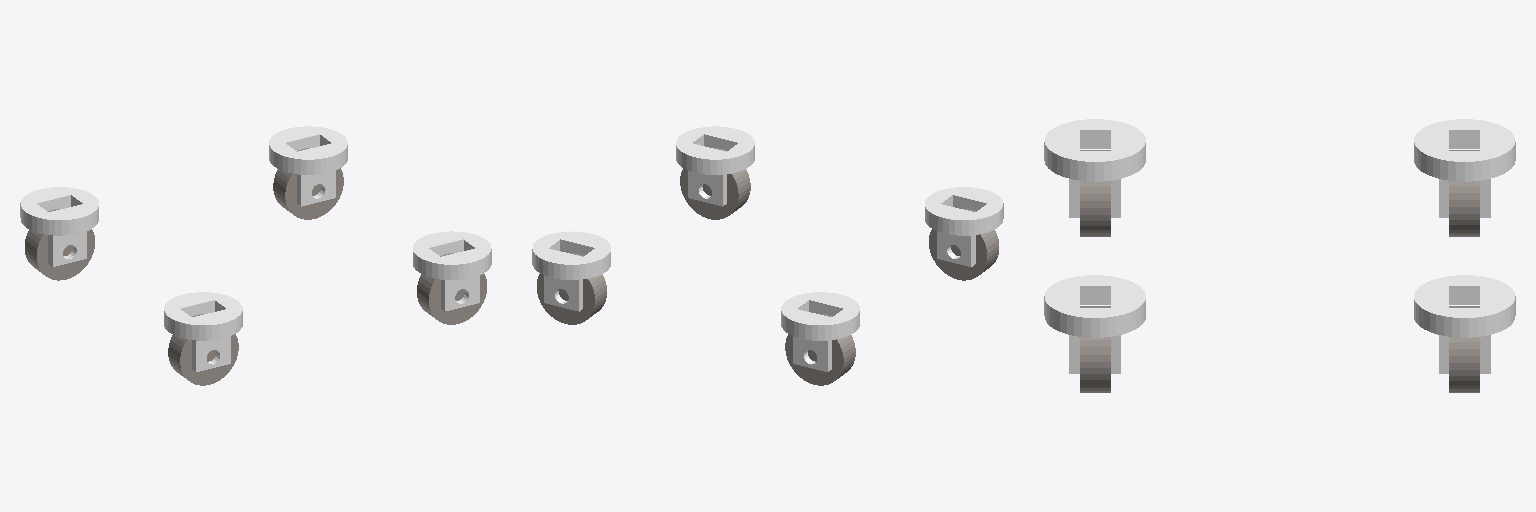
URDF robot description (urdf4):
<?xml version="1.0" encoding="utf-8"?>
<!-- This URDF was automatically created by SolidWorks to URDF Exporter! Originally created by [author] ([email redacted]) 
     Commit Version: 1.6.0-4-g7f85cfe  Build Version: 1.6.7995.38578
     For more information, please see http://wiki.ros.org/sw_urdf_exporter -->
<robot
  name="urdf4">
  <link
    name="base_link">
    <inertial>
      <origin
        xyz="0.226401216207925 0.250000000000002 0.0832142996809845"
        rpy="0 0 0" />
      <mass
        value="3.00064129669064" />
      <inertia
        ixx="0.00796442280563065"
        ixy="2.03287907341032E-19"
        ixz="1.3170298992621E-19"
        iyy="0.00543817220574472"
        iyz="2.04194038294964E-18"
        izz="0.0128600718019731" />
    </inertial>
    <visual>
      <origin
        xyz="0 0 0"
        rpy="0 0 0" />
      <geometry>
        <mesh
          filename="package://urdf4/meshes/base_link.STL" />
      </geometry>
      <material
        name="">
        <color
          rgba="0.898039215686275 0.917647058823529 0.929411764705882 1" />
      </material>
    </visual>
    <collision>
      <origin
        xyz="0 0 0"
        rpy="0 0 0" />
      <geometry>
        <mesh
          filename="package://urdf4/meshes/base_link.STL" />
      </geometry>
    </collision>
  </link>
  <link
    name="st_fr">
    <inertial>
      <origin
        xyz="-5.55111512312578E-17 0 -0.0192277182691706"
        rpy="0 0 0" />
      <mass
        value="0.221804775243313" />
      <inertia
        ixx="0.000211251147171327"
        ixy="1.44540848153921E-19"
        ixz="8.31312383018759E-21"
        iyy="0.000195922267849405"
        iyz="-2.52922489270912E-21"
        izz="0.000272151766439536" />
    </inertial>
    <visual>
      <origin
        xyz="0 0 0"
        rpy="0 0 0" />
      <geometry>
        <mesh
          filename="package://urdf4/meshes/st_fr.STL" />
      </geometry>
      <material
        name="">
        <color
          rgba="1 1 1 1" />
      </material>
    </visual>
    <collision>
      <origin
        xyz="0 0 0"
        rpy="0 0 0" />
      <geometry>
        <mesh
          filename="package://urdf4/meshes/st_fr.STL" />
      </geometry>
    </collision>
  </link>
  <joint
    name="st_fr"
    type="continuous">
    <origin
      xyz="0.427999999999999 0.0720000000000044 0.098"
      rpy="0 0 3.14159265358979" />
    <parent
      link="base_link" />
    <child
      link="st_fr" />
    <axis
      xyz="0 0 1" />
  </joint>
  <link
    name="wh_fr">
    <inertial>
      <origin
        xyz="5.55111512312578E-17 -3.33066907387547E-16 -2.77555756156289E-17"
        rpy="0 0 0" />
      <mass
        value="0.764764182848667" />
      <inertia
        ixx="0.000394618318349911"
        ixy="-2.71050543121414E-20"
        ixz="-2.70957328763451E-18"
        iyy="0.000394618318349911"
        iyz="-8.26225347607718E-20"
        izz="0.000674522009272522" />
    </inertial>
    <visual>
      <origin
        xyz="0 0 0"
        rpy="0 0 0" />
      <geometry>
        <mesh
          filename="package://urdf4/meshes/wh_fr.STL" />
      </geometry>
      <material
        name="">
        <color
          rgba="0.686274509803922 0.658823529411765 0.63921568627451 1" />
      </material>
    </visual>
    <collision>
      <origin
        xyz="0 0 0"
        rpy="0 0 0" />
      <geometry>
        <mesh
          filename="package://urdf4/meshes/wh_fr.STL" />
      </geometry>
    </collision>
  </link>
  <joint
    name="wh_fr"
    type="continuous">
    <origin
      xyz="0 0 -0.056"
      rpy="-1.57079632679489 -0.316982240676282 3.14159265358979" />
    <parent
      link="st_fr" />
    <child
      link="wh_fr" />
    <axis
      xyz="0 0 1" />
  </joint>
  <link
    name="st_fl">
    <inertial>
      <origin
        xyz="-9.27036225562006E-15 9.2148511043888E-15 -0.0192277182691705"
        rpy="0 0 0" />
      <mass
        value="0.221804775243313" />
      <inertia
        ixx="0.000211251147171327"
        ixy="1.5259027586436E-19"
        ixz="-2.08993382508076E-20"
        iyy="0.000195922267849405"
        iyz="-1.09748132952089E-19"
        izz="0.000272151766439536" />
    </inertial>
    <visual>
      <origin
        xyz="0 0 0"
        rpy="0 0 0" />
      <geometry>
        <mesh
          filename="package://urdf4/meshes/st_fl.STL" />
      </geometry>
      <material
        name="">
        <color
          rgba="1 1 1 1" />
      </material>
    </visual>
    <collision>
      <origin
        xyz="0 0 0"
        rpy="0 0 0" />
      <geometry>
        <mesh
          filename="package://urdf4/meshes/st_fl.STL" />
      </geometry>
    </collision>
  </link>
  <joint
    name="st_fl"
    type="continuous">
    <origin
      xyz="0.427999999999993 0.428000000000008 0.098"
      rpy="0 0 3.14159265358979" />
    <parent
      link="base_link" />
    <child
      link="st_fl" />
    <axis
      xyz="0 0 1" />
  </joint>
  <link
    name="wh_fl">
    <inertial>
      <origin
        xyz="1.74860126378462E-15 -9.10382880192628E-15 -9.2148511043888E-15"
        rpy="0 0 0" />
      <mass
        value="0.764764182848668" />
      <inertia
        ixx="0.000394618318349911"
        ixy="2.80869186206329E-33"
        ixz="-5.05968944935445E-19"
        iyy="0.000394618318349911"
        iyz="-3.30844112456072E-19"
        izz="0.000674522009272522" />
    </inertial>
    <visual>
      <origin
        xyz="0 0 0"
        rpy="0 0 0" />
      <geometry>
        <mesh
          filename="package://urdf4/meshes/wh_fl.STL" />
      </geometry>
      <material
        name="">
        <color
          rgba="0.686274509803922 0.658823529411765 0.63921568627451 1" />
      </material>
    </visual>
    <collision>
      <origin
        xyz="0 0 0"
        rpy="0 0 0" />
      <geometry>
        <mesh
          filename="package://urdf4/meshes/wh_fl.STL" />
      </geometry>
    </collision>
  </link>
  <joint
    name="wh_fl"
    type="continuous">
    <origin
      xyz="0 0 -0.056"
      rpy="-1.57079632679491 1.37893541128008 3.14159265358979" />
    <parent
      link="st_fl" />
    <child
      link="wh_fl" />
    <axis
      xyz="0 0 1" />
  </joint>
  <link
    name="st_bl">
    <inertial>
      <origin
        xyz="-2.22044604925031E-16 0 -0.0192277182691707"
        rpy="0 0 0" />
      <mass
        value="0.221804775243313" />
      <inertia
        ixx="0.000211251147171327"
        ixy="1.53485357990453E-19"
        ixz="-6.36602024298163E-21"
        iyy="0.000195922267849405"
        iyz="-8.29915464357821E-20"
        izz="0.000272151766439536" />
    </inertial>
    <visual>
      <origin
        xyz="0 0 0"
        rpy="0 0 0" />
      <geometry>
        <mesh
          filename="package://urdf4/meshes/st_bl.STL" />
      </geometry>
      <material
        name="">
        <color
          rgba="1 1 1 1" />
      </material>
    </visual>
    <collision>
      <origin
        xyz="0 0 0"
        rpy="0 0 0" />
      <geometry>
        <mesh
          filename="package://urdf4/meshes/st_bl.STL" />
      </geometry>
    </collision>
  </link>
  <joint
    name="st_bl"
    type="continuous">
    <origin
      xyz="0.0719999999999909 0.428000000000001 0.098"
      rpy="0 0 0" />
    <parent
      link="base_link" />
    <child
      link="st_bl" />
    <axis
      xyz="0 0 1" />
  </joint>
  <link
    name="wh_bl">
    <inertial>
      <origin
        xyz="1.38777878078145E-17 -2.77555756156289E-16 0"
        rpy="0 0 0" />
      <mass
        value="0.764764182848668" />
      <inertia
        ixx="0.000394618318349911"
        ixy="8.470329472543E-22"
        ixz="1.04246469853974E-19"
        iyy="0.000394618318349911"
        iyz="2.87657101211516E-18"
        izz="0.000674522009272522" />
    </inertial>
    <visual>
      <origin
        xyz="0 0 0"
        rpy="0 0 0" />
      <geometry>
        <mesh
          filename="package://urdf4/meshes/wh_bl.STL" />
      </geometry>
      <material
        name="">
        <color
          rgba="0.686274509803922 0.658823529411765 0.63921568627451 1" />
      </material>
    </visual>
    <collision>
      <origin
        xyz="0 0 0"
        rpy="0 0 0" />
      <geometry>
        <mesh
          filename="package://urdf4/meshes/wh_bl.STL" />
      </geometry>
    </collision>
  </link>
  <joint
    name="wh_bl"
    type="continuous">
    <origin
      xyz="0 0 -0.056"
      rpy="1.5707963267949 1.5497746785967 0" />
    <parent
      link="st_bl" />
    <child
      link="wh_bl" />
    <axis
      xyz="0 0 1" />
  </joint>
  <link
    name="st_br">
    <inertial>
      <origin
        xyz="1.38777878078145E-17 0 -0.0192277182691706"
        rpy="0 0 0" />
      <mass
        value="0.221804775243313" />
      <inertia
        ixx="0.000211251147171327"
        ixy="1.67333223363118E-19"
        ixz="-2.16214368458905E-20"
        iyy="0.000195922267849405"
        iyz="-1.52374330908884E-20"
        izz="0.000272151766439536" />
    </inertial>
    <visual>
      <origin
        xyz="0 0 0"
        rpy="0 0 0" />
      <geometry>
        <mesh
          filename="package://urdf4/meshes/st_br.STL" />
      </geometry>
      <material
        name="">
        <color
          rgba="1 1 1 1" />
      </material>
    </visual>
    <collision>
      <origin
        xyz="0 0 0"
        rpy="0 0 0" />
      <geometry>
        <mesh
          filename="package://urdf4/meshes/st_br.STL" />
      </geometry>
    </collision>
  </link>
  <joint
    name="st_br"
    type="continuous">
    <origin
      xyz="0.071999999999999 0.0720000000000007 0.098"
      rpy="0 0 0" />
    <parent
      link="base_link" />
    <child
      link="st_br" />
    <axis
      xyz="0 0 1" />
  </joint>
  <link
    name="wh_br">
    <inertial>
      <origin
        xyz="1.37390099297363E-15 8.60422844084496E-16 -1.38777878078145E-17"
        rpy="0 0 0" />
      <mass
        value="0.764764182848667" />
      <inertia
        ixx="0.000394618318349911"
        ixy="9.48676900924816E-20"
        ixz="-2.38221637064903E-18"
        iyy="0.000394618318349911"
        iyz="-1.50429089505785E-18"
        izz="0.000674522009272522" />
    </inertial>
    <visual>
      <origin
        xyz="0 0 0"
        rpy="0 0 0" />
      <geometry>
        <mesh
          filename="package://urdf4/meshes/wh_br.STL" />
      </geometry>
      <material
        name="">
        <color
          rgba="0.686274509803922 0.658823529411765 0.63921568627451 1" />
      </material>
    </visual>
    <collision>
      <origin
        xyz="0 0 0"
        rpy="0 0 0" />
      <geometry>
        <mesh
          filename="package://urdf4/meshes/wh_br.STL" />
      </geometry>
    </collision>
  </link>
  <joint
    name="wh_br"
    type="continuous">
    <origin
      xyz="0 0 -0.056"
      rpy="-1.5707963267949 -0.57401915441884 3.14159265358979" />
    <parent
      link="st_br" />
    <child
      link="wh_br" />
    <axis
      xyz="0 0 1" />
  </joint>
</robot>

--- Facts derived from the render (not from the file) ---
The picture shows the robot from 3 angles, left to right: view 1: azimuth 30°, elevation 25°; view 2: azimuth 150°, elevation 25°; view 3: azimuth 270°, elevation 25°; orthographic projection.
Model urdf4 with 9 links and 8 joints (8 continuous), rooted at base_link, posed all joints at 0.
Visible links, largest first — view 1: st_fl, st_br, st_bl, st_fr, wh_fr, wh_br, wh_fl, wh_bl; view 2: st_bl, st_fr, st_br, st_fl, wh_fl, wh_bl, wh_fr, wh_br; view 3: st_bl, st_br, st_fr, st_fl, wh_fr, wh_fl, wh_bl, wh_br.
Link boxes in pixels (bbox=[...]): st_fl: bbox=[269, 126, 347, 206]; st_br: bbox=[164, 292, 242, 371]; st_bl: bbox=[20, 187, 98, 266]; st_fr: bbox=[413, 231, 491, 311]; wh_fr: bbox=[417, 253, 486, 324]; wh_br: bbox=[168, 314, 238, 385]; wh_fl: bbox=[273, 148, 343, 219]; wh_bl: bbox=[25, 209, 94, 280]; st_bl: bbox=[781, 292, 859, 371]; st_fr: bbox=[676, 126, 754, 206]; st_br: bbox=[925, 187, 1003, 266]; st_fl: bbox=[532, 231, 610, 311]; wh_fl: bbox=[537, 253, 606, 324]; wh_bl: bbox=[785, 314, 855, 385]; wh_fr: bbox=[680, 148, 750, 219]; wh_br: bbox=[929, 209, 998, 280]; st_bl: bbox=[1414, 119, 1515, 217]; st_br: bbox=[1044, 119, 1145, 217]; st_fr: bbox=[1044, 275, 1145, 373]; st_fl: bbox=[1414, 275, 1515, 373]; wh_fr: bbox=[1080, 306, 1110, 392]; wh_fl: bbox=[1449, 306, 1479, 392]; wh_bl: bbox=[1449, 150, 1479, 236]; wh_br: bbox=[1080, 150, 1110, 236].
Bounding box of the posed robot: 0.4536 × 0.4539 × 0.098 m (x, y, z).
Meshes: 9 distinct files referenced, 8 mesh visuals loaded (8 binary STL); not drawn: 1 (reference not matched to a file when rendering).